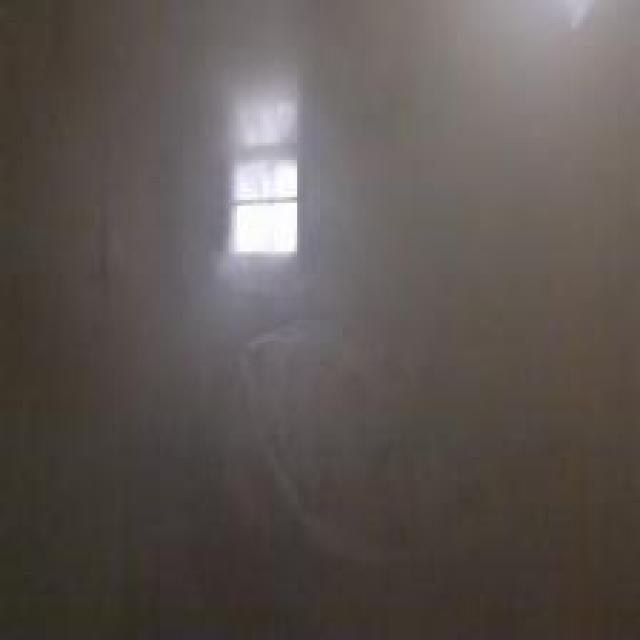other: (222, 103, 301, 257)
